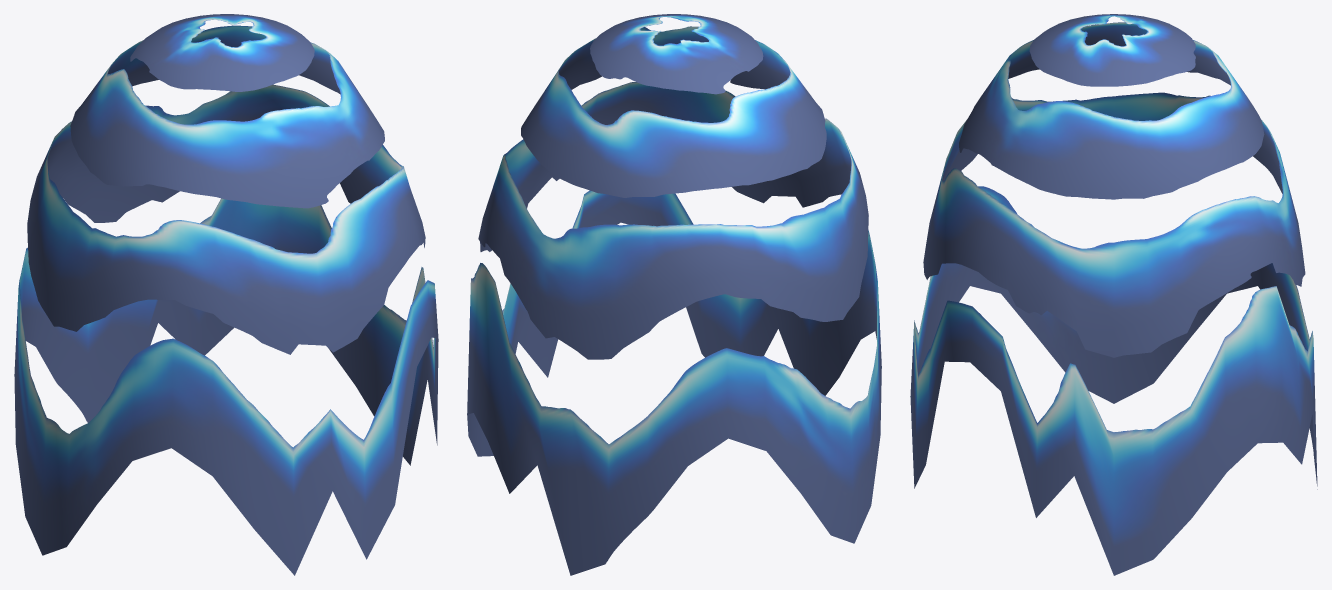
The model's file is shui.FBX.
The picture shows the model from 3 angles, left to right: view 1: azimuth 30°, elevation 25°; view 2: azimuth 150°, elevation 25°; view 3: azimuth 270°, elevation 25°; orthographic projection. The views are drawn at different scales.
Visible parts, largest first — view 1: Sphere001; view 2: Sphere001; view 3: Sphere001.
Boxes of the visible parts, left/top/right/bottom form: Sphere001: left=14, top=14, right=438, bottom=575; Sphere001: left=467, top=14, right=881, bottom=575; Sphere001: left=910, top=14, right=1317, bottom=575.
Bounding box in the file's own units: 158 × 197 × 158.
